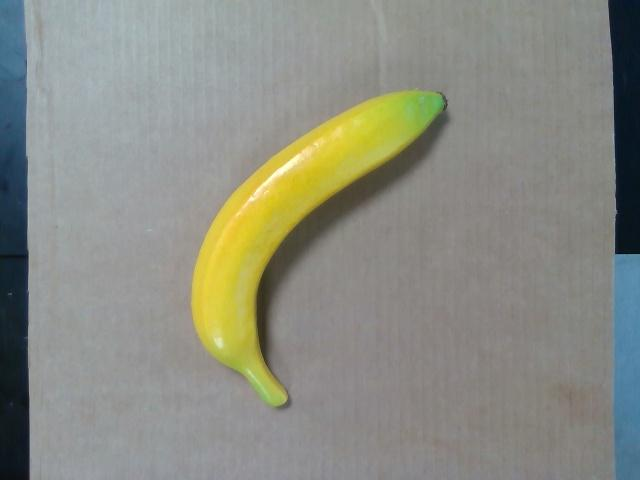banana: (191, 86, 447, 408)
